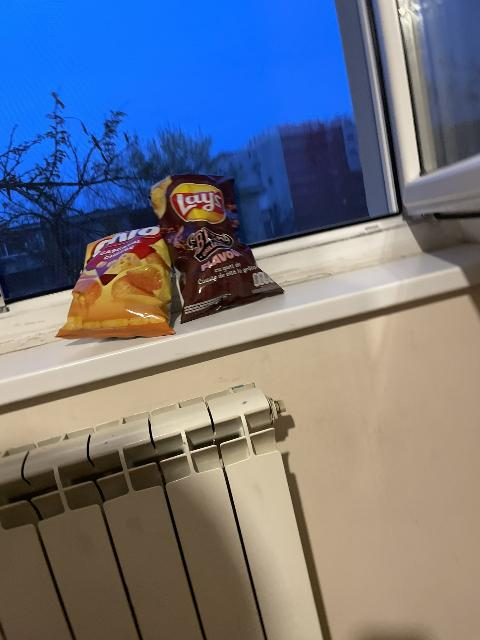Chio Cascaval 125g: (57, 227, 180, 336)
Lays Beef Grilled Ribs 125g: (153, 174, 286, 324)
